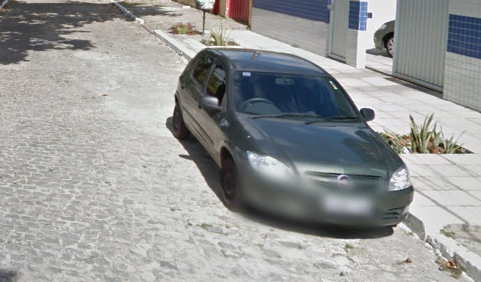car: (168, 41, 417, 235)
